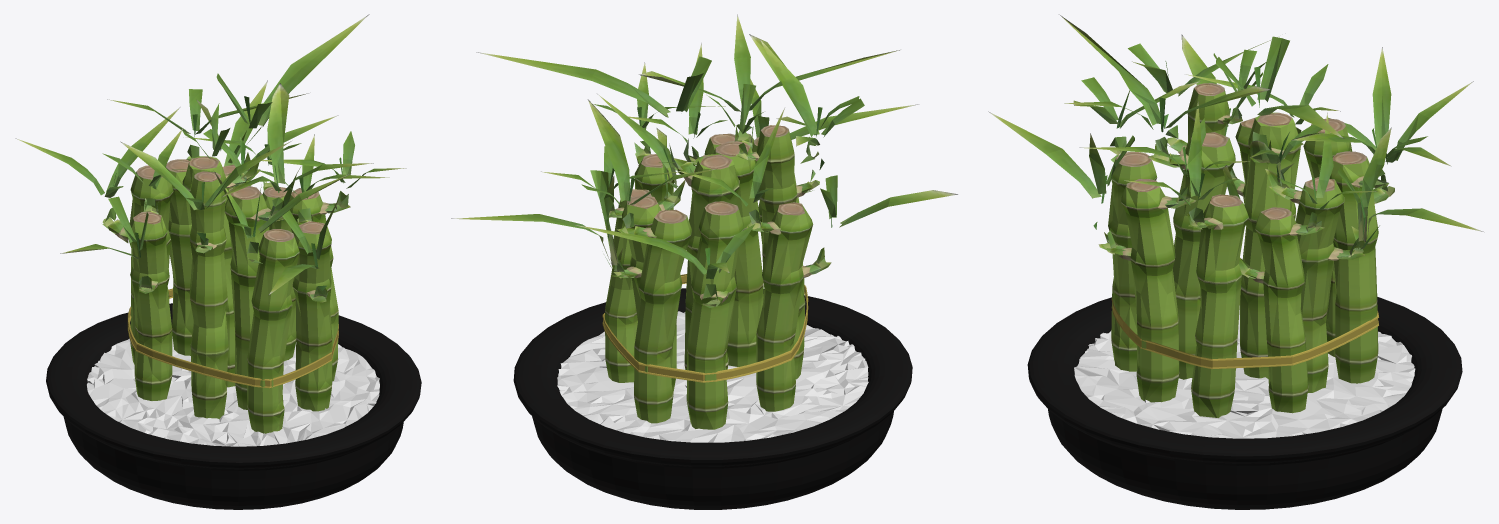
Rendered from sh-bsby-lucky-bamboo.glb.
3 views of the same model, side by side, from view 1: azimuth 30°, elevation 25°; view 2: azimuth 150°, elevation 25°; view 3: azimuth 270°, elevation 25° (orthographic). The views are drawn at different scales.
Parts seen in each view (by area): view 1: Bamboo.007_Mesh.007, Vase_Cylinder, Flints_Plane, Ribbon_Mesh; view 2: Bamboo.007_Mesh.007, Vase_Cylinder, Flints_Plane, Ribbon_Mesh; view 3: Bamboo.007_Mesh.007, Vase_Cylinder, Flints_Plane, Ribbon_Mesh.
Part boxes in pixels (x1,y1,x2,y2): Bamboo.007_Mesh.007: [15, 14, 406, 433]; Vase_Cylinder: [46, 303, 421, 509]; Flints_Plane: [87, 336, 379, 446]; Ribbon_Mesh: [127, 288, 338, 388]; Bamboo.007_Mesh.007: [451, 14, 957, 429]; Vase_Cylinder: [513, 288, 912, 509]; Flints_Plane: [557, 311, 868, 442]; Ribbon_Mesh: [602, 274, 808, 382]; Bamboo.007_Mesh.007: [988, 14, 1483, 417]; Vase_Cylinder: [1027, 297, 1462, 509]; Flints_Plane: [1074, 305, 1415, 438]; Ribbon_Mesh: [1111, 298, 1378, 369].
Bounding box in the file's own units: 1 × 0.9184 × 1.
4 materials, 1 textured.
